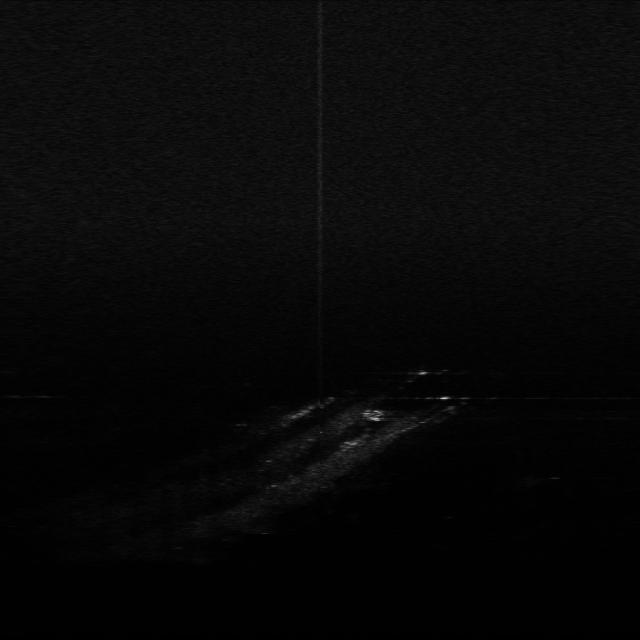rov: (359, 405, 387, 423)
